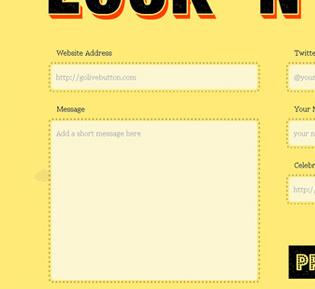checkbox_with_label: (47, 49, 261, 94)
field: (46, 116, 261, 283), (48, 62, 260, 93)
field_with_label: (44, 105, 262, 285)
